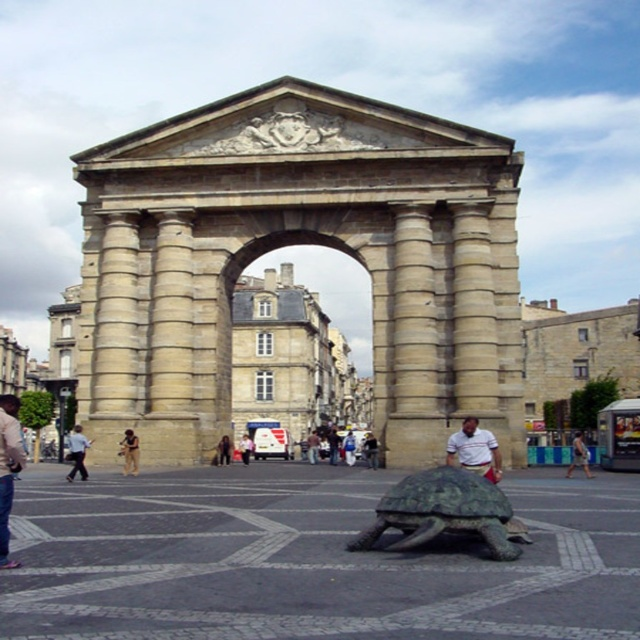Tortoise: (346, 465, 524, 562)
